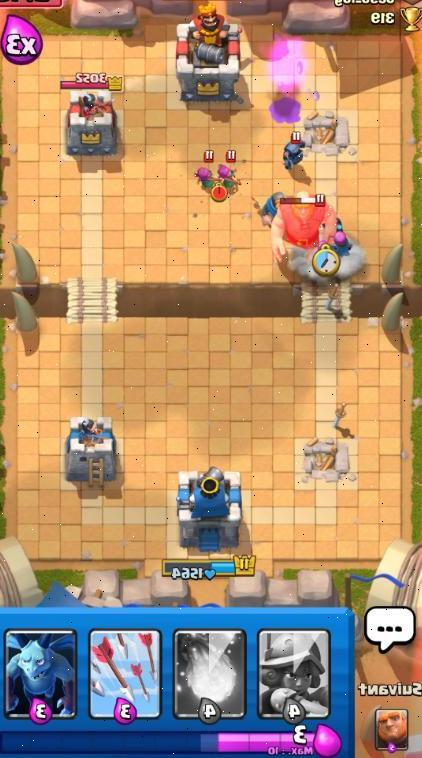enemy_archers: (216, 152, 243, 190), (192, 152, 217, 189)
enemy_giant: (265, 192, 332, 255)
enemy_mini_pekka: (274, 128, 315, 172)
player_archers: (328, 223, 357, 261)
player_knight: (254, 187, 289, 227)
